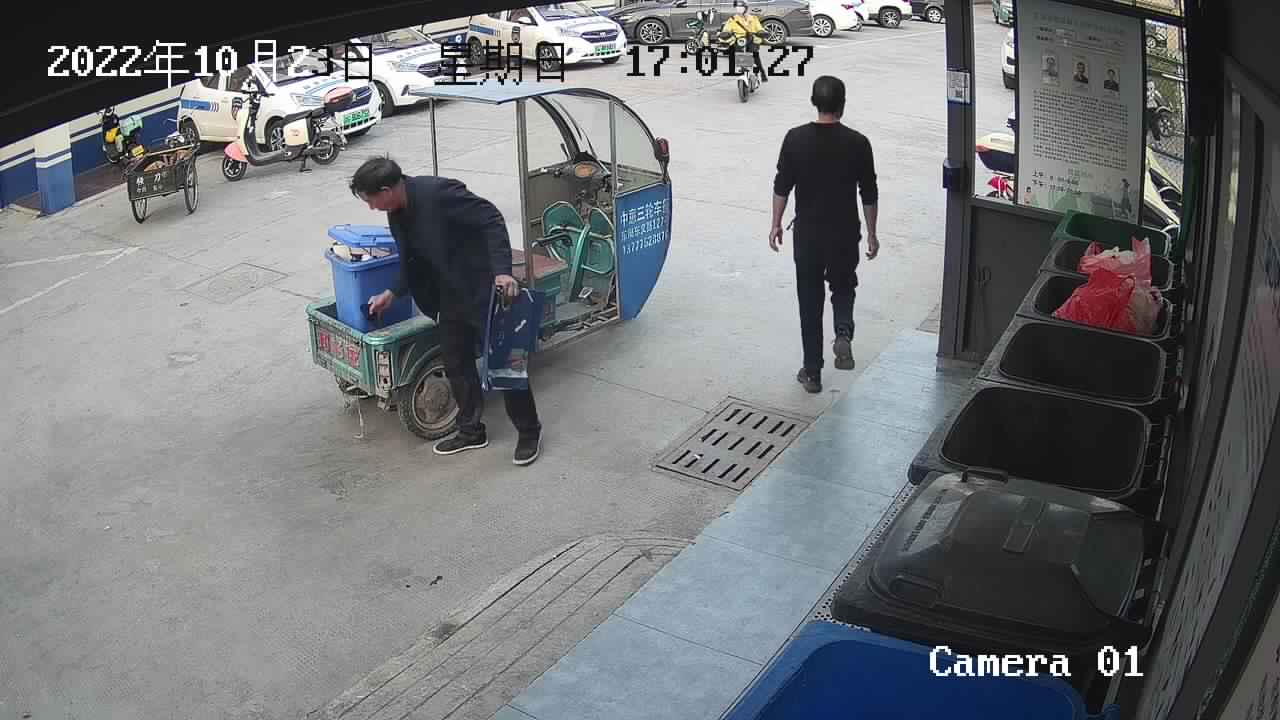person: (344, 148, 552, 474), (762, 69, 885, 399)
zhizhipin: (475, 279, 544, 397)
